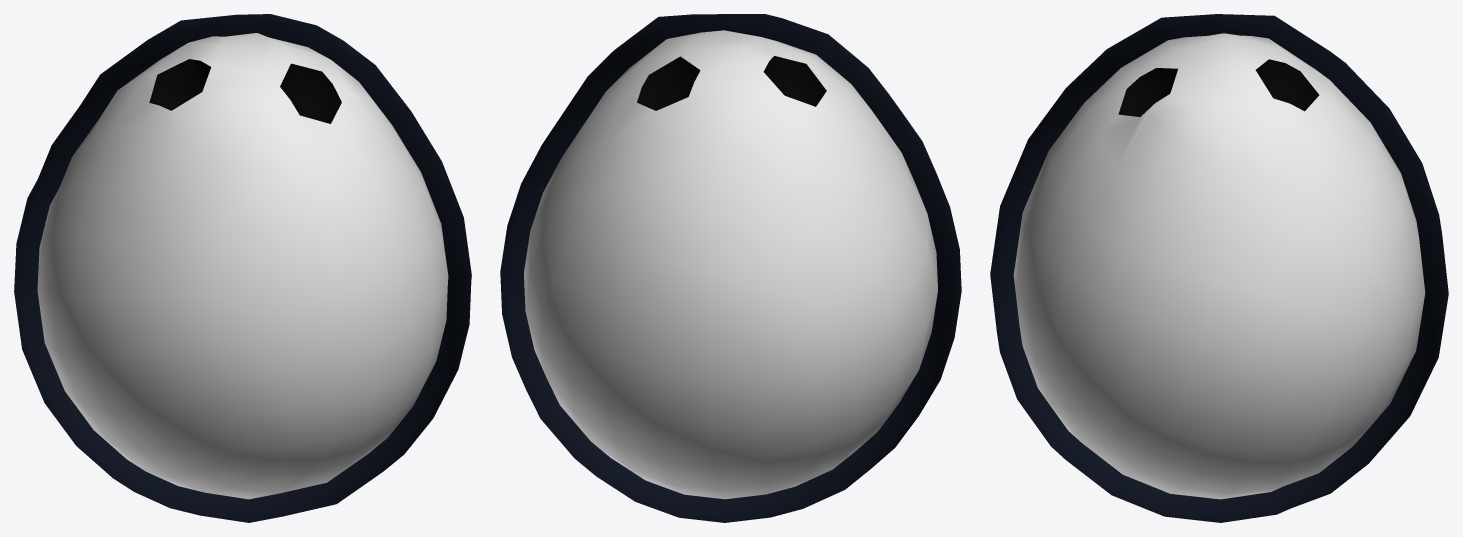
Rendered from Ball2.fbx.
3 renders of one model, left to right at view 1: azimuth 30°, elevation 25°; view 2: azimuth 150°, elevation 25°; view 3: azimuth 270°, elevation 25°, orthographic.
Parts seen in each view (by area): view 1: m_Ball, m_BallOutline; view 2: m_Ball, m_BallOutline; view 3: m_Ball, m_BallOutline.
Part boxes in pixels (left/top/right/bottom): m_Ball: left=37, top=33, right=448, bottom=499; m_BallOutline: left=14, top=14, right=471, bottom=522; m_Ball: left=524, top=30, right=937, bottom=499; m_BallOutline: left=500, top=14, right=961, bottom=522; m_Ball: left=1013, top=33, right=1425, bottom=499; m_BallOutline: left=990, top=14, right=1448, bottom=522.
Size of the model in its own units: 3.8 by 4.41 by 3.84.
